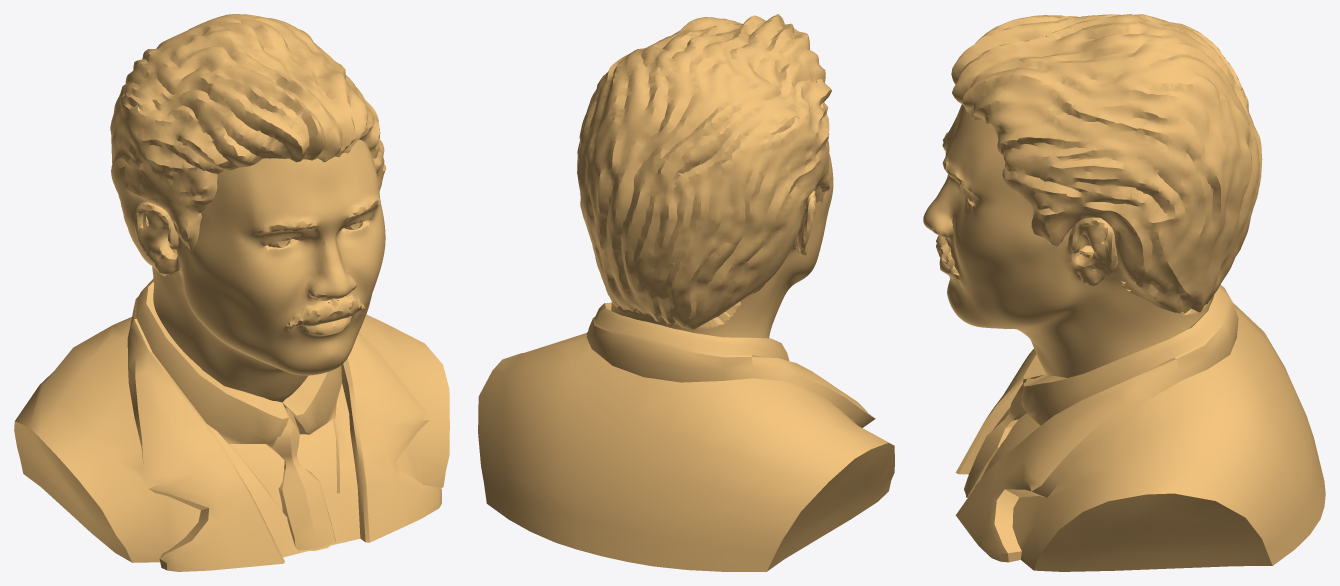
The picture shows the model from 3 angles, left to right: view 1: azimuth 30°, elevation 25°; view 2: azimuth 150°, elevation 25°; view 3: azimuth 270°, elevation 25°; orthographic projection. The views are drawn at different scales.
Parts seen in each view (by area): view 1: Mirzhakip.003, Mirzhakip.001; view 2: Mirzhakip.003; view 3: Mirzhakip.003, Mirzhakip.001.
Part boxes in pixels (<box>): Mirzhakip.003: <box>14,14,449,571</box>; Mirzhakip.001: <box>266,407,335,550</box>; Mirzhakip.003: <box>478,14,894,571</box>; Mirzhakip.003: <box>923,14,1325,571</box>; Mirzhakip.001: <box>964,378,1033,497</box>.
Size of the model in its own units: 3.02 by 3.49 by 2.7.
Materials: 1 (1 with a texture image).
